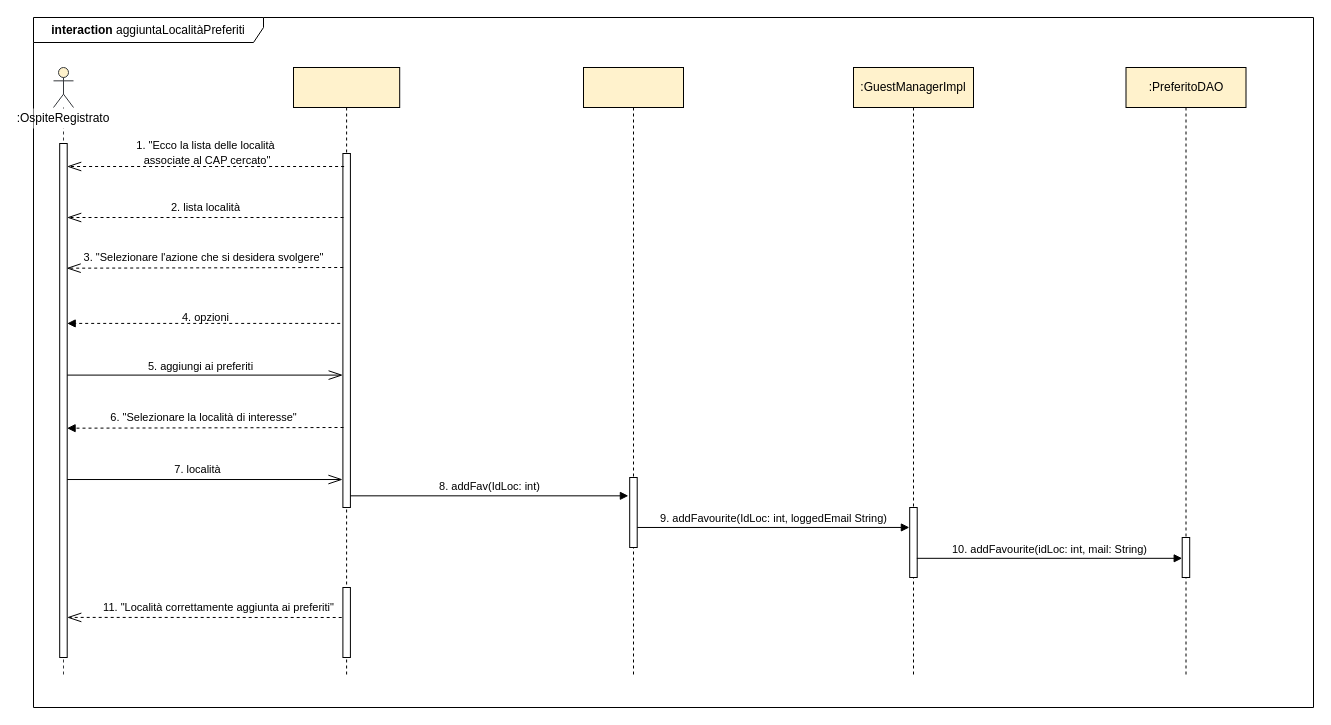
The diagram is 1331 pixels wide and 725 high, and some of its shapes have lost their labels. Here are the shapes that lost their labels. From the top down, the box of each, then its label:
(292, 66, 400, 678): :BOspiteRegistrato
(582, 66, 684, 678): :GuestManager
